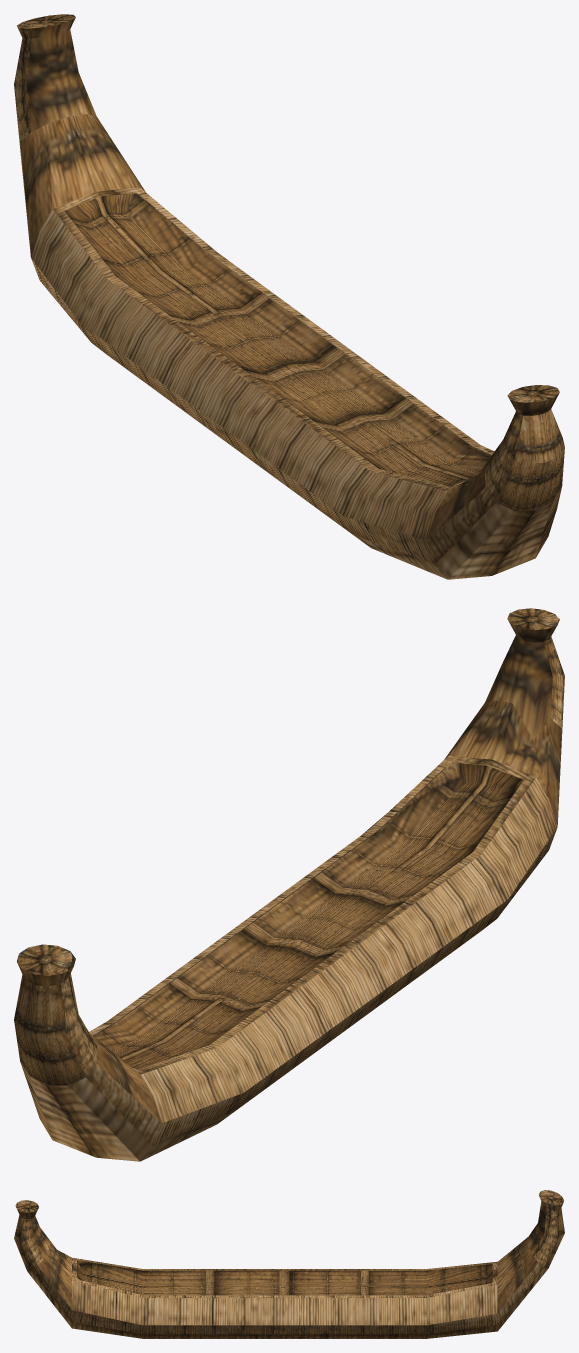
File: ship_fisher.dae
The picture shows the model from 3 angles, top to bottom: view 1: azimuth 30°, elevation 25°; view 2: azimuth 150°, elevation 25°; view 3: azimuth 270°, elevation 25°; orthographic projection. The views are drawn at different scales.
Visible parts, largest first — view 1: fisher; view 2: fisher; view 3: fisher.
Boxes of the visible parts, bbox=[...] form: fisher: bbox=[14, 14, 564, 579]; fisher: bbox=[14, 608, 564, 1161]; fisher: bbox=[14, 1190, 564, 1338].
Size of the model in its own units: 1.94 by 10.55 by 2.81.
1 material, 1 textured.
